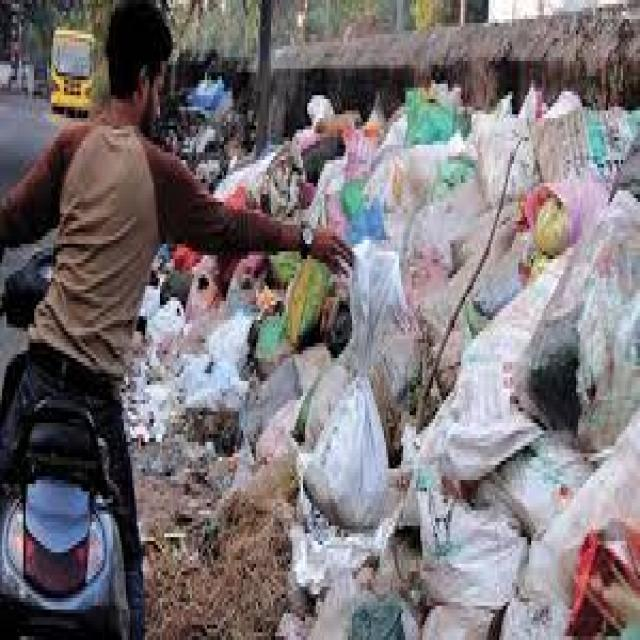heap: (357, 119, 640, 595)
